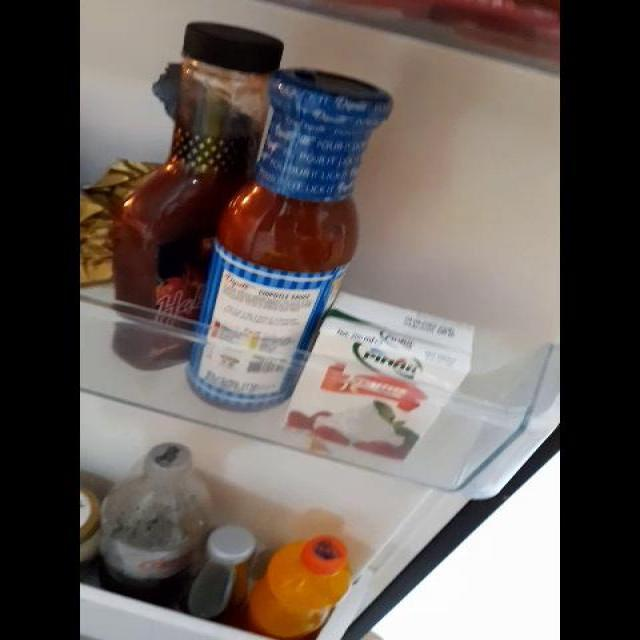cream: (297, 302, 463, 463)
sauce: (144, 71, 359, 399)
